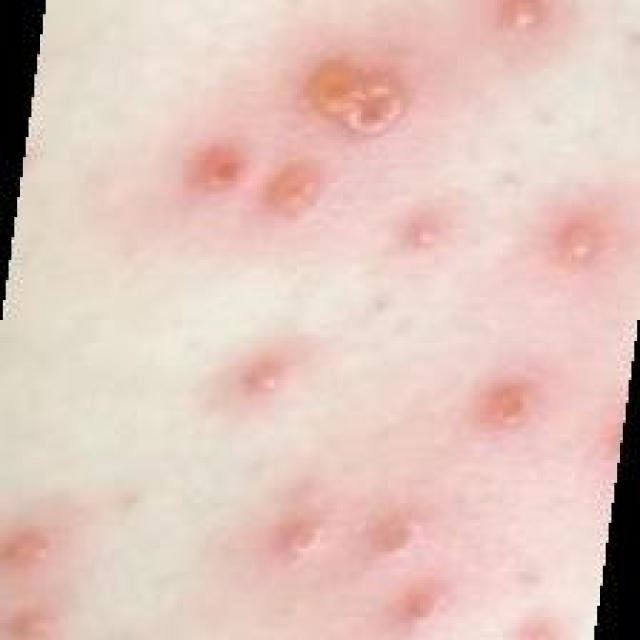others: (65, 9, 580, 640)
